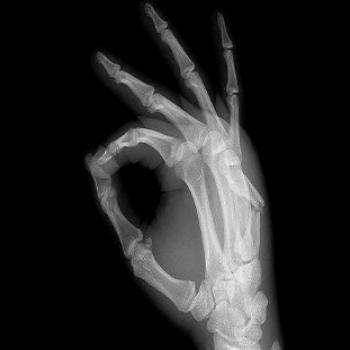Fracture: (244, 196, 272, 216)
